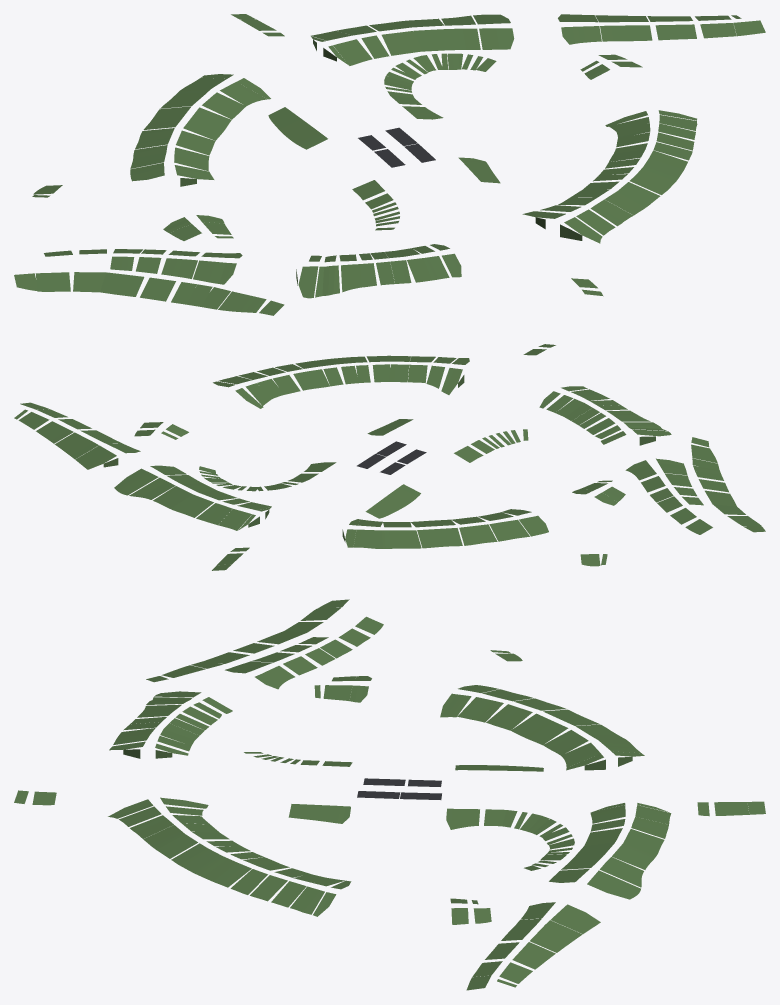
The model's file is br_h39_henday_yellowhead_1_lod2.gltf.
3 renders of one model, top to bottom at view 1: azimuth 30°, elevation 25°; view 2: azimuth 150°, elevation 25°; view 3: azimuth 270°, elevation 25°, orthographic. The views are drawn at different scales.
Parts seen in each view (by area): view 1: br_h39_henday_yellowhead_1_lod2; view 2: br_h39_henday_yellowhead_1_lod2; view 3: br_h39_henday_yellowhead_1_lod2.
Boxes of the visible parts, left/top/right/bottom form: br_h39_henday_yellowhead_1_lod2: left=14, top=14, right=765, bottom=315; br_h39_henday_yellowhead_1_lod2: left=14, top=344, right=765, bottom=570; br_h39_henday_yellowhead_1_lod2: left=14, top=599, right=765, bottom=990.
Bounding box in the file's own units: 1015 × 28.47 × 812.
